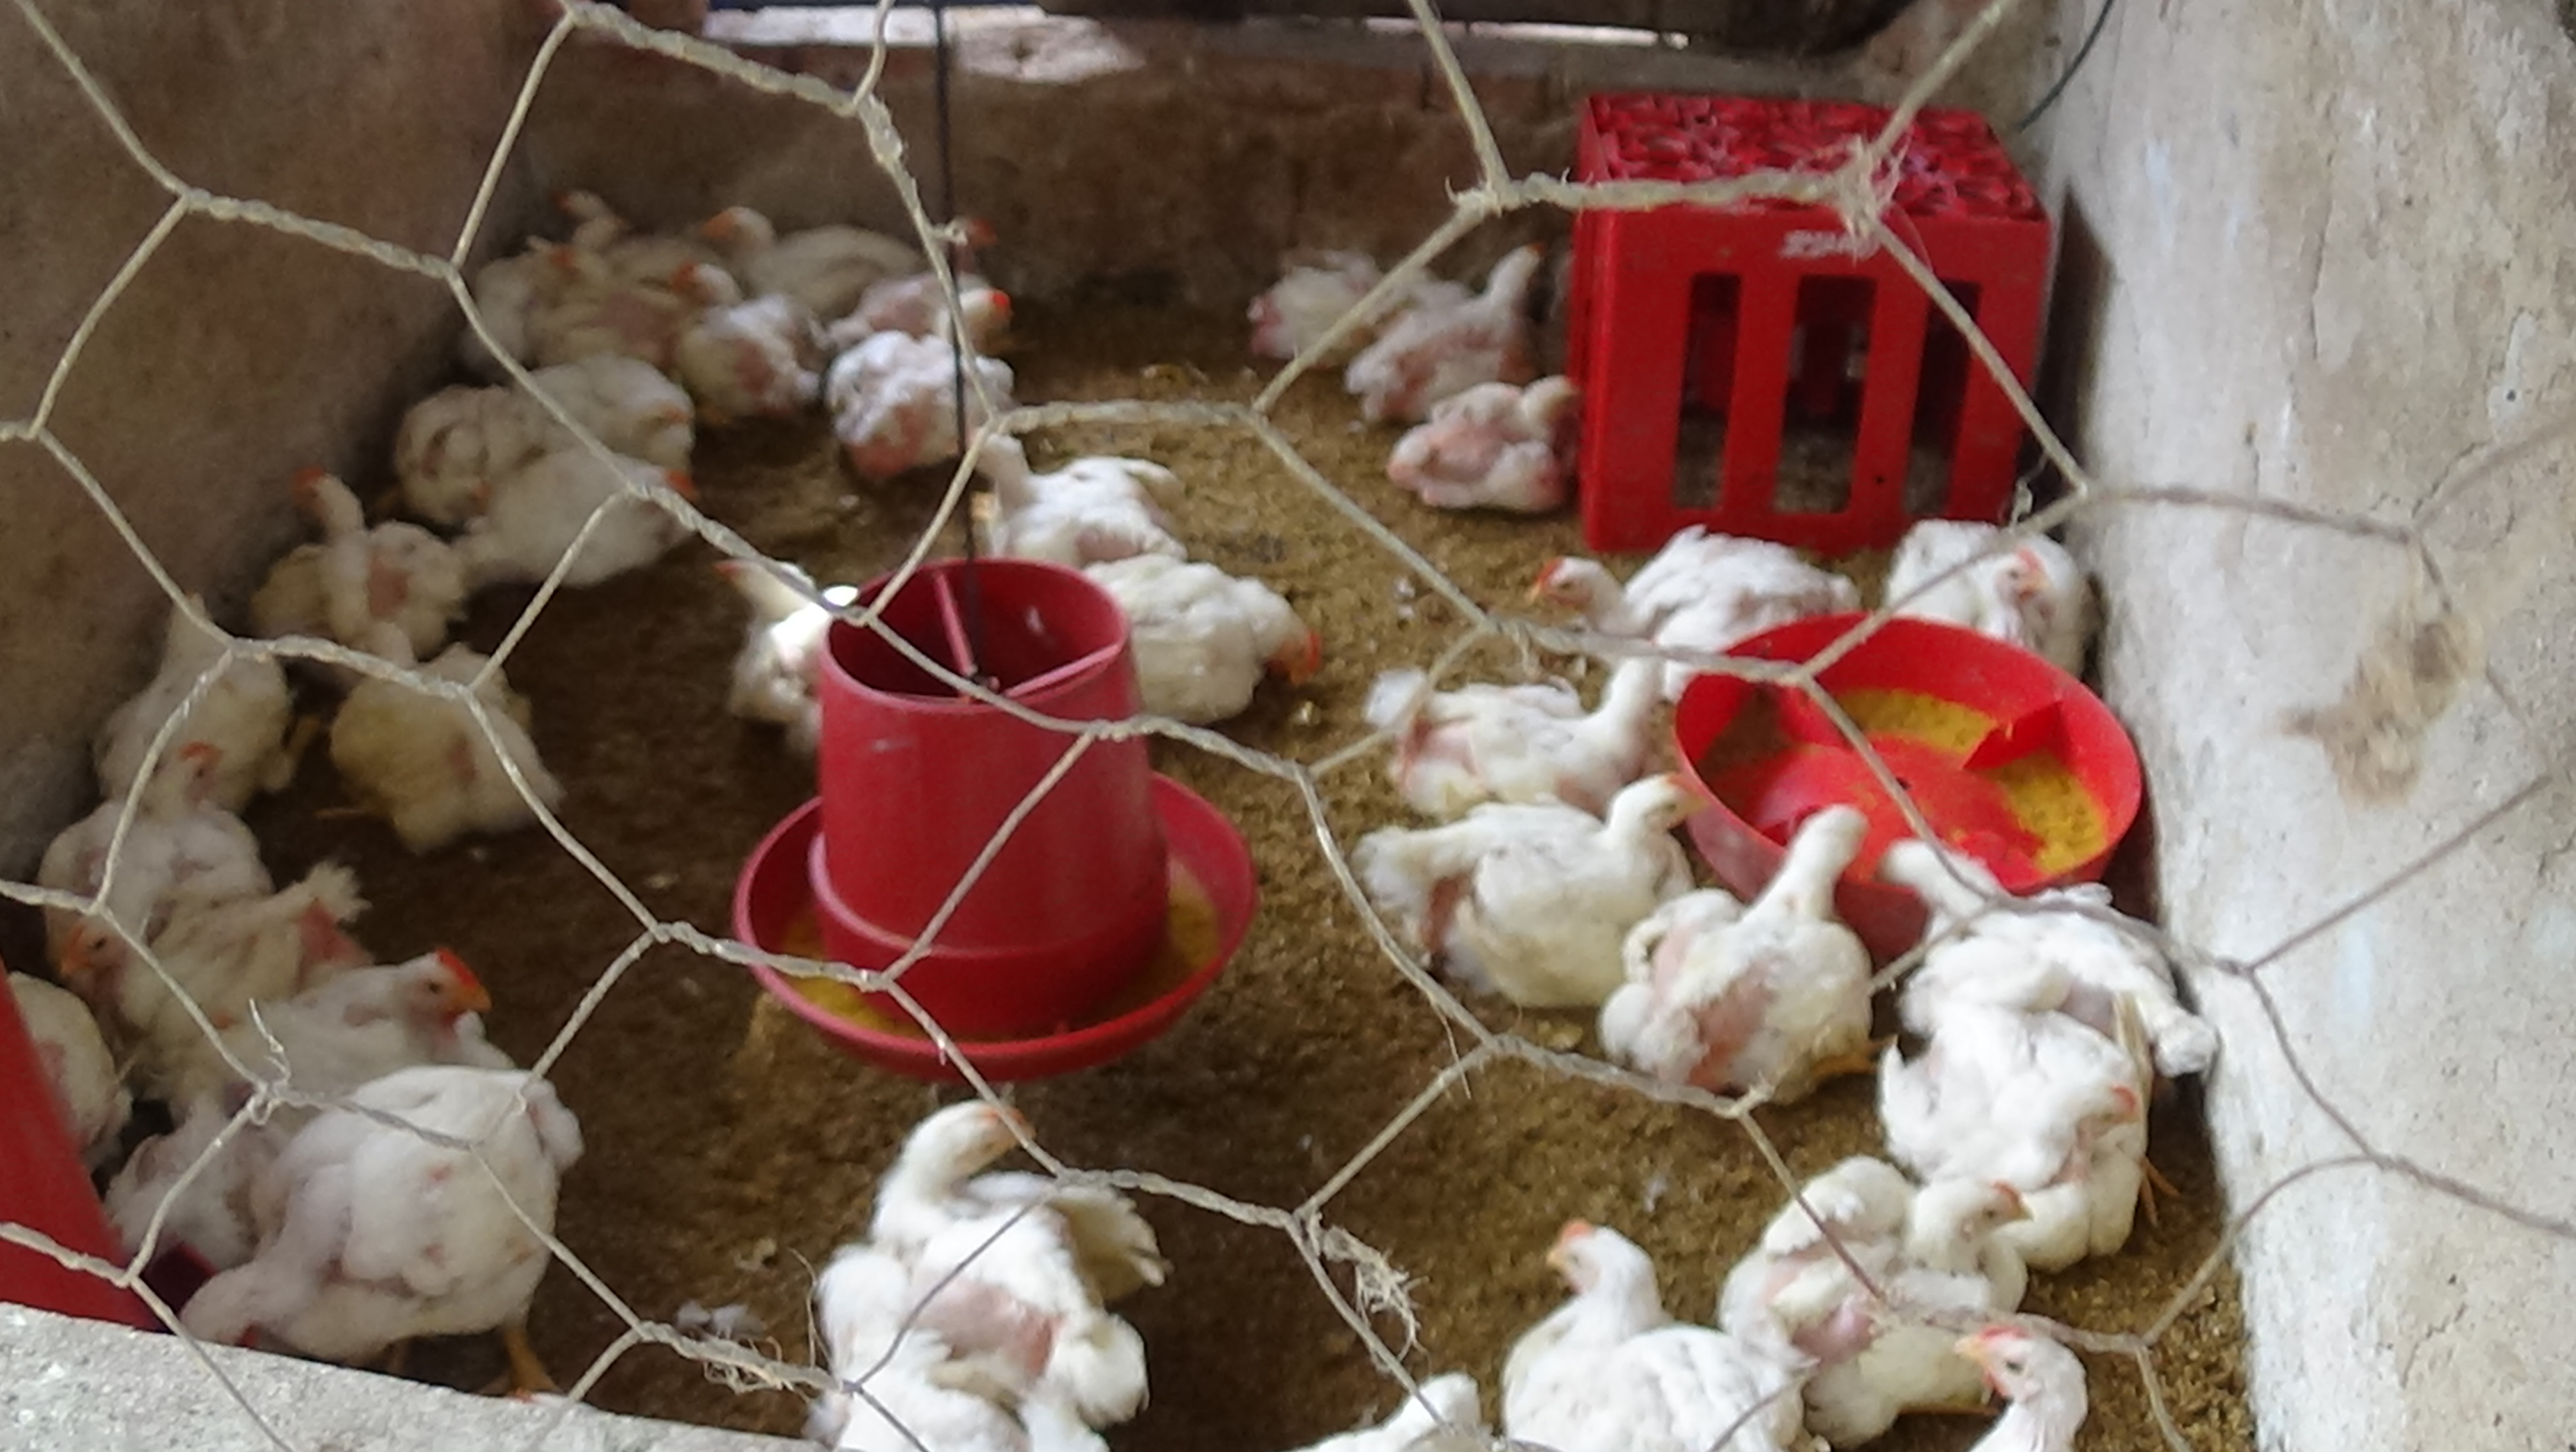Pollos: (170, 1036, 633, 1371), (851, 1078, 1194, 1404), (1364, 756, 1720, 1027), (1614, 786, 1881, 1124), (1720, 1151, 2020, 1447), (1884, 811, 2219, 1057), (1856, 993, 2169, 1245), (207, 921, 492, 1176), (1490, 1213, 1778, 1452), (62, 823, 377, 1041), (4, 733, 255, 969), (1373, 657, 1690, 836), (80, 581, 343, 793), (1525, 528, 1872, 689), (334, 620, 559, 866), (1865, 483, 2091, 710), (1067, 556, 1329, 738), (1350, 227, 1568, 434), (278, 459, 474, 669), (439, 446, 694, 604), (830, 276, 1033, 471), (706, 538, 885, 751), (688, 179, 975, 306), (517, 227, 718, 391), (1385, 374, 1592, 522), (1921, 1298, 2109, 1452), (1228, 227, 1419, 368), (665, 255, 803, 434)
